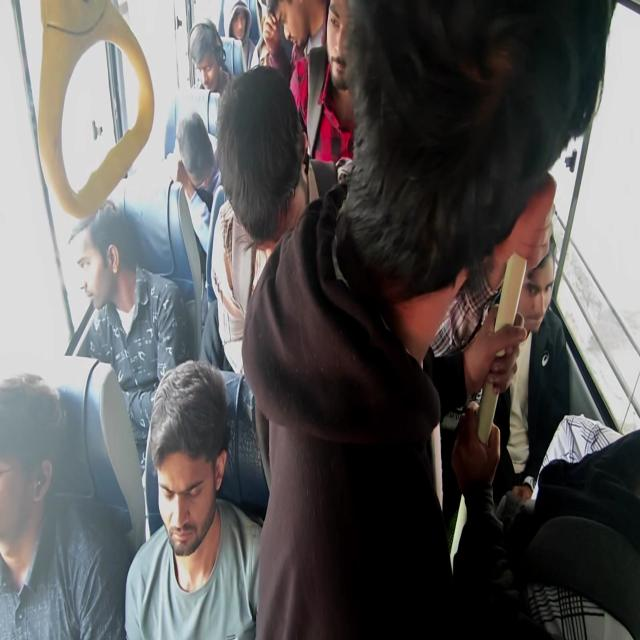person: (363, 1, 609, 233), (0, 407, 65, 629), (153, 404, 242, 556), (233, 92, 304, 260), (512, 215, 572, 346), (68, 192, 120, 323), (327, 0, 388, 76), (188, 29, 234, 100), (270, 0, 314, 67), (175, 116, 214, 191), (224, 7, 249, 40)
